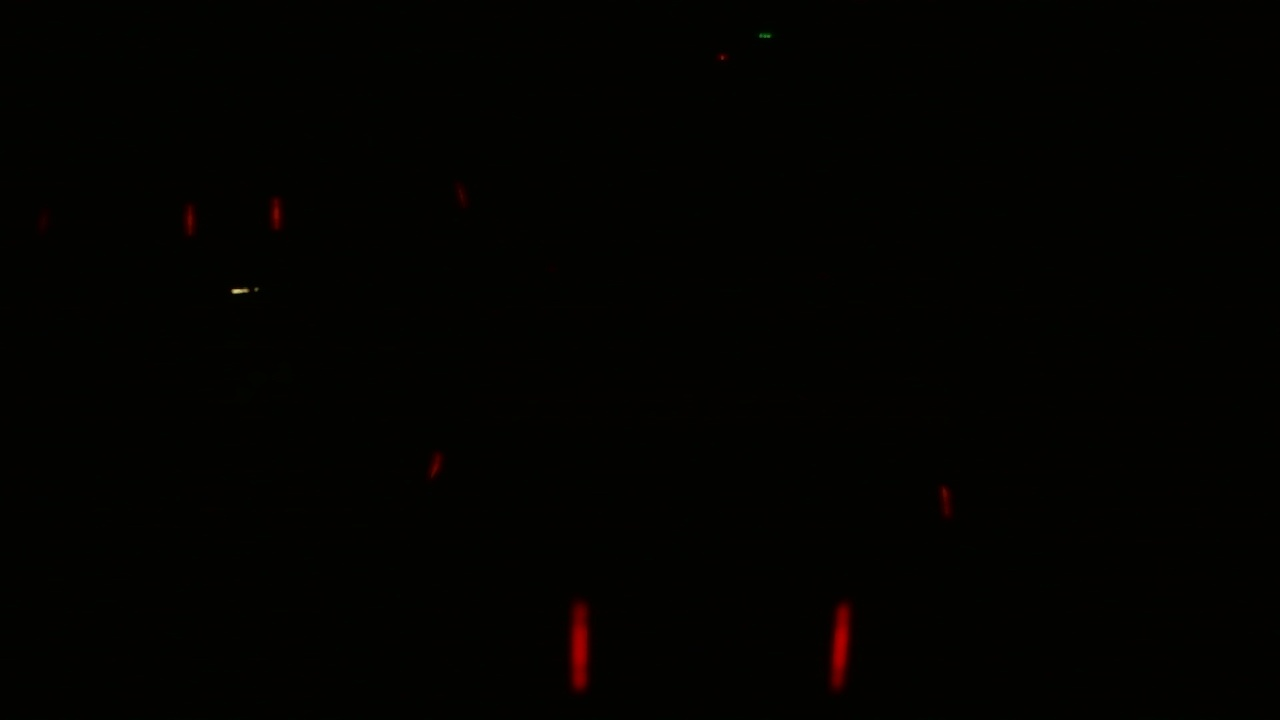pair1: (562, 597, 859, 690), (177, 189, 284, 247)
